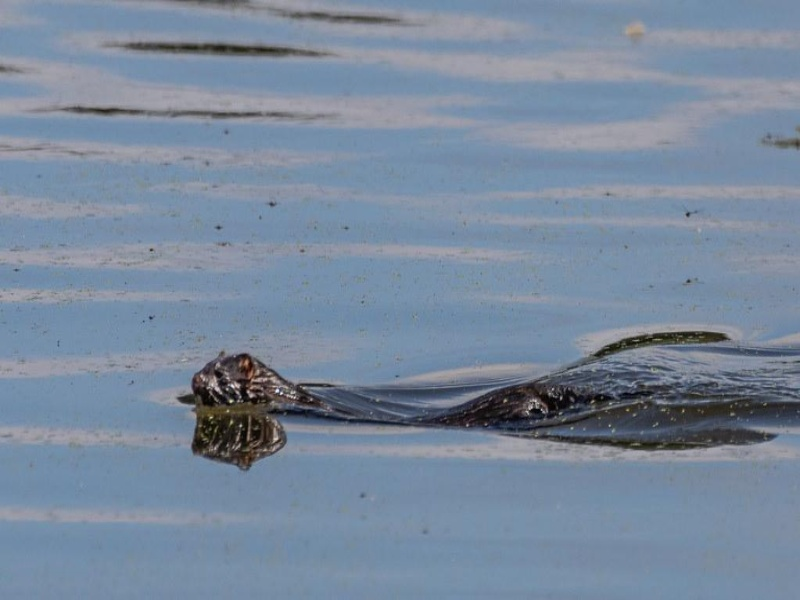minkish: (183, 350, 314, 403)
